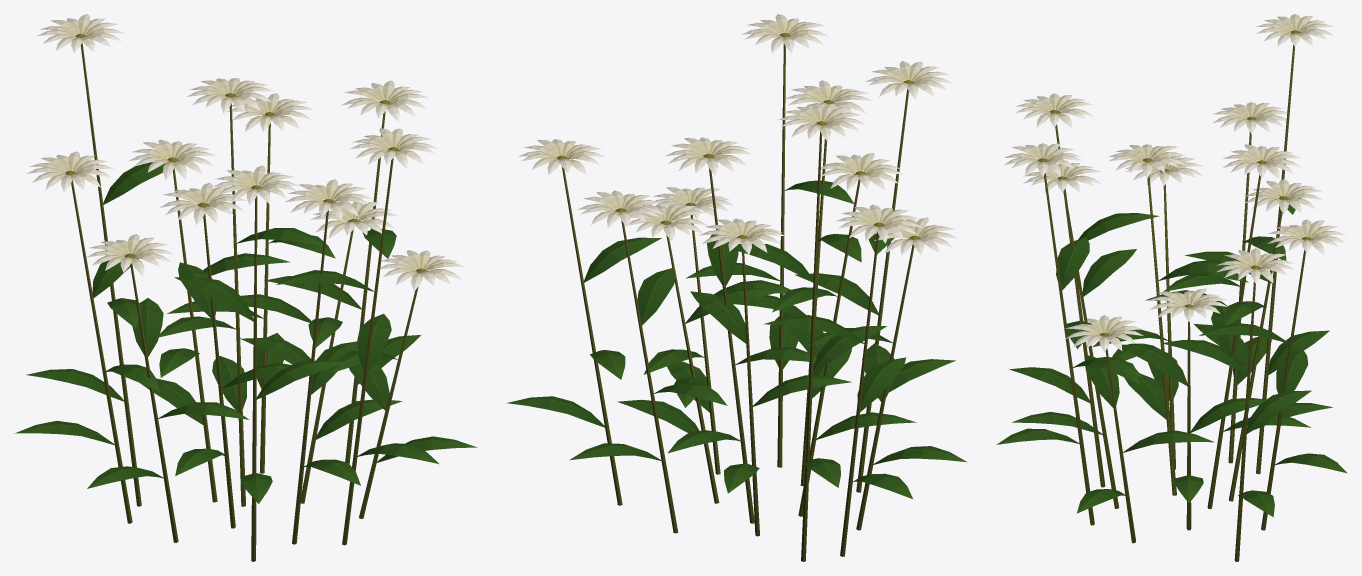
Rendered from MeadowDaisy_A.fbx.
3 views of the same model, side by side, from view 1: azimuth 30°, elevation 25°; view 2: azimuth 150°, elevation 25°; view 3: azimuth 270°, elevation 25° (orthographic). The views are drawn at different scales.
Parts seen in each view (by area): view 1: MeadowDaisy_A_LOD0; view 2: MeadowDaisy_A_LOD0; view 3: MeadowDaisy_A_LOD0.
Part boxes in pixels (x1=…): MeadowDaisy_A_LOD0: x1=14, y1=14, x2=477, y2=561; MeadowDaisy_A_LOD0: x1=506, y1=14, x2=967, y2=561; MeadowDaisy_A_LOD0: x1=996, y1=14, x2=1347, y2=561.
Size of what is drawn, in the model's own units: 0.6295 by 0.6949 by 0.5139.
